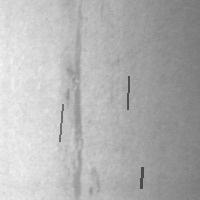inclusion: (63, 1, 88, 165), (68, 142, 101, 198), (57, 102, 64, 143), (125, 74, 130, 111), (139, 165, 144, 190)
